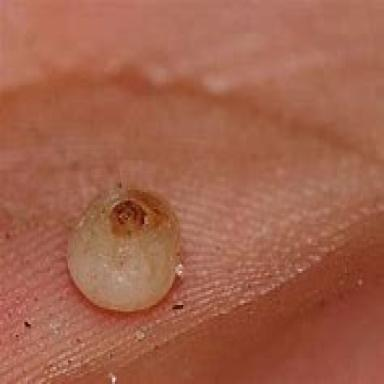Tungiasis: (68, 192, 181, 312)
